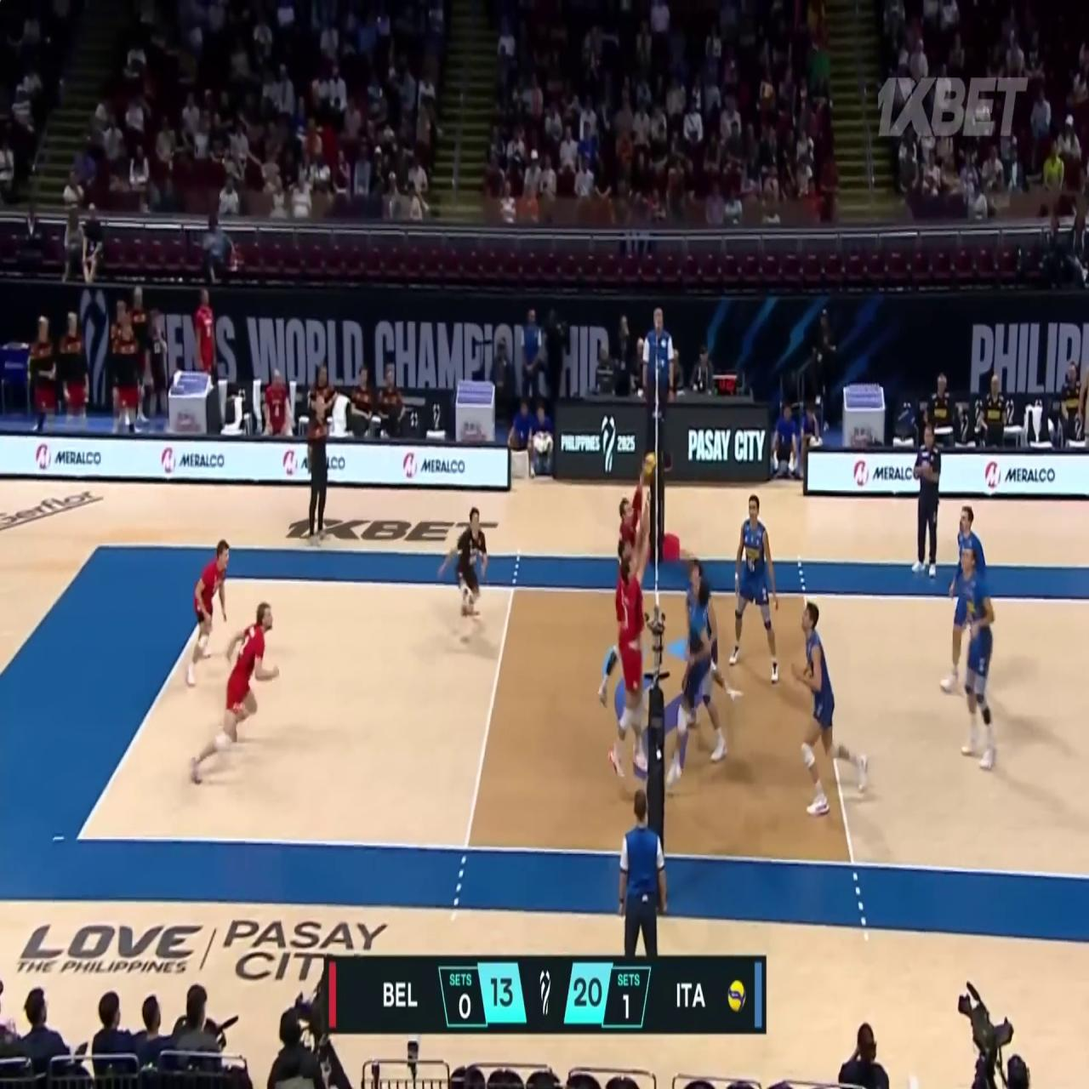ball: (643, 452, 657, 474)
